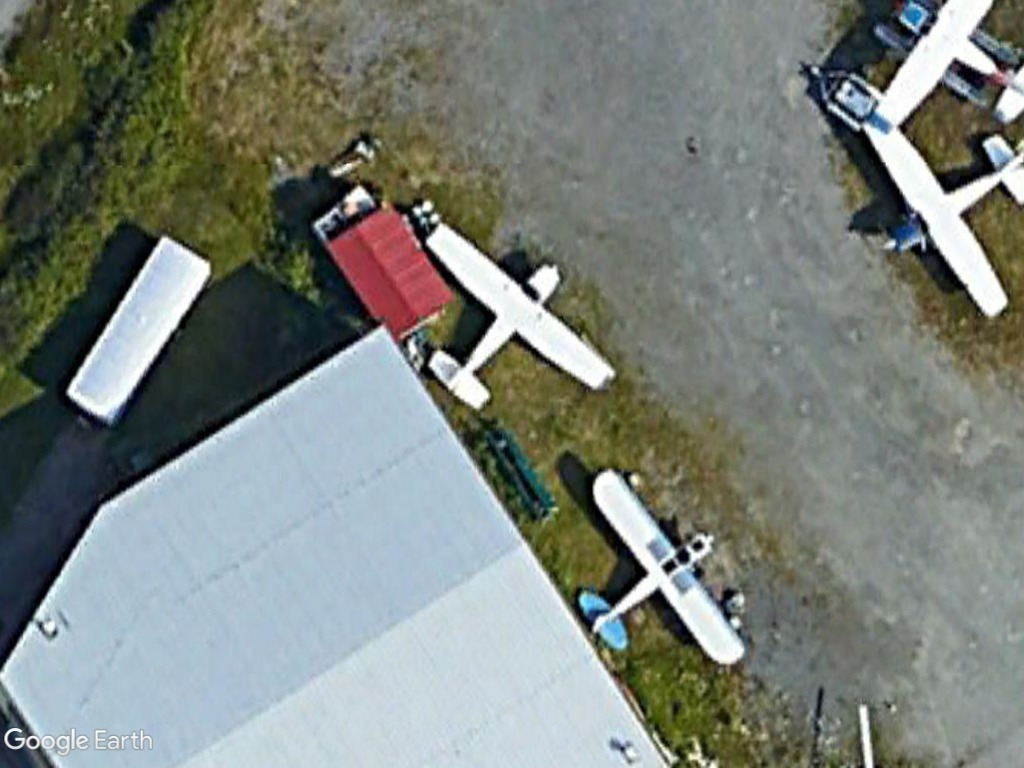longvehicle: (68, 232, 216, 432)
trainer: (567, 460, 754, 680), (418, 217, 619, 411)
